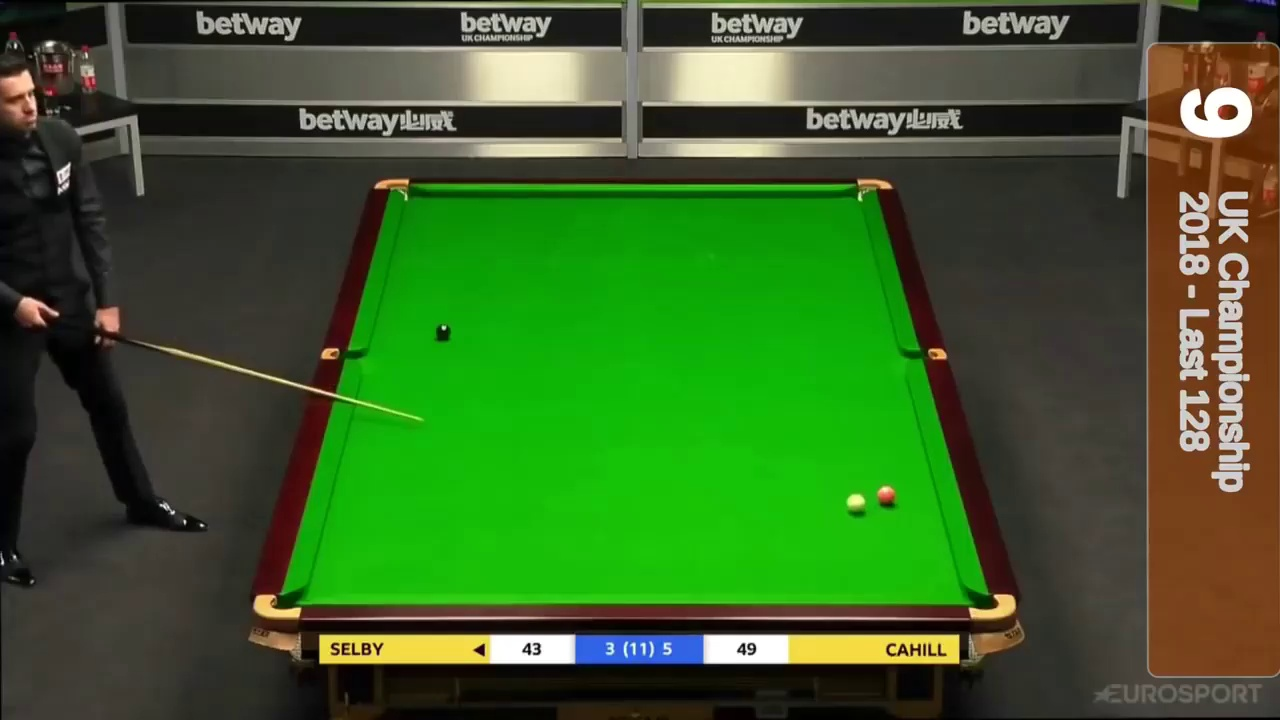ball: (877, 484, 896, 505), (436, 323, 450, 340)
